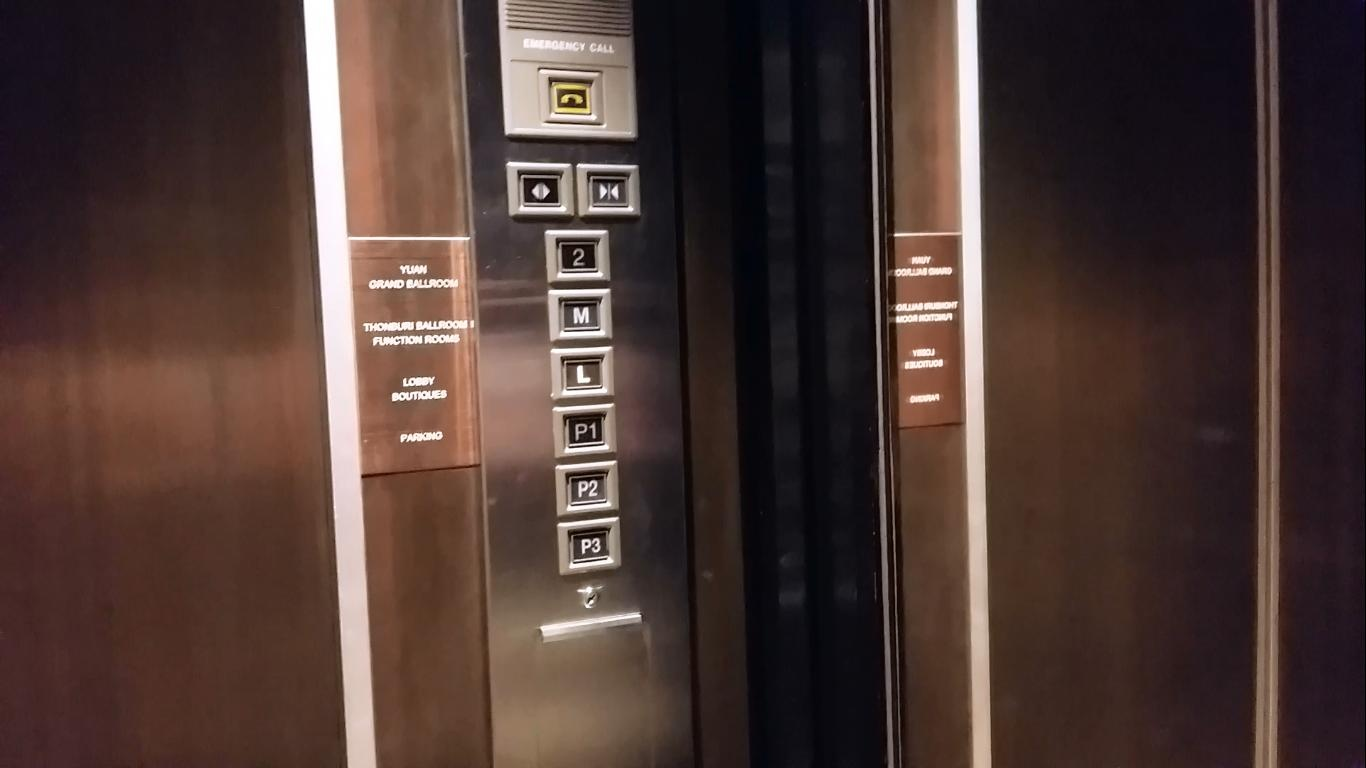2: (542, 228, 612, 285)
L: (549, 345, 616, 401)
M: (546, 289, 614, 342)
P1: (551, 404, 620, 455)
P2: (554, 458, 620, 516)
P3: (554, 517, 623, 574)
call: (536, 66, 608, 129)
close: (574, 161, 643, 222)
keyhole: (574, 585, 607, 610)
open: (505, 161, 575, 219)
